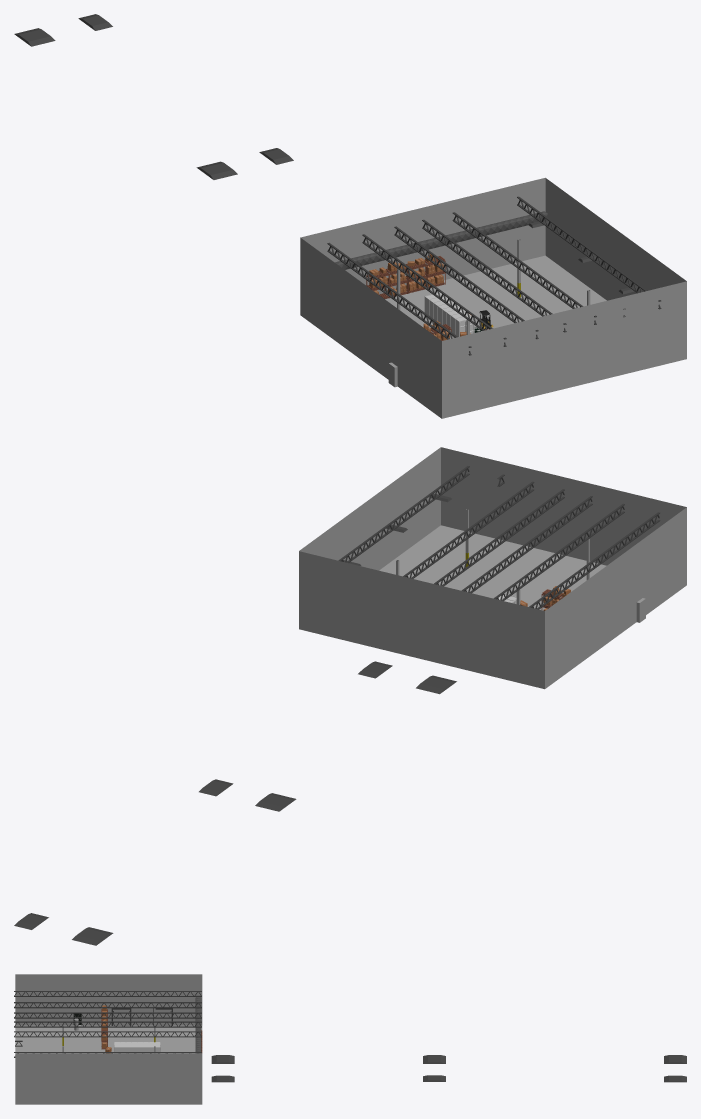
File: rafters.obj
The picture shows the model from 3 angles, top to bottom: view 1: azimuth 30°, elevation 25°; view 2: azimuth 150°, elevation 25°; view 3: azimuth 270°, elevation 25°; orthographic projection. The views are drawn at different scales.
Parts seen in each view (by area): view 1: walls_Plane.002, girders.003_Cube.061, Cube.001_Cube.065, Circle; view 2: walls_Plane.002, girders.003_Cube.061; view 3: walls_Plane.002, girders.003_Cube.061, Circle, Cube.004_Cube.019, Cube.001_Cube.065, Cube.005_Cube.180, Cube.019_Cube.714.
Part boxes in pixels (box(x1,y1,x2,y2)): walls_Plane.002: box(300, 177, 686, 418); girders.003_Cube.061: box(327, 196, 661, 355); Cube.001_Cube.065: box(335, 211, 547, 269); Circle: box(424, 292, 474, 337); walls_Plane.002: box(299, 447, 686, 689); girders.003_Cube.061: box(338, 466, 660, 609); walls_Plane.002: box(15, 974, 202, 1104); girders.003_Cube.061: box(14, 991, 201, 1057); Circle: box(114, 1042, 160, 1053); Cube.004_Cube.019: box(111, 1008, 131, 1025); Cube.001_Cube.065: box(195, 995, 201, 1053); Cube.005_Cube.180: box(153, 1008, 172, 1025); Cube.019_Cube.714: box(101, 1005, 107, 1049).
Bounding box in the file's own units: 46.89 × 15.26 × 167.
